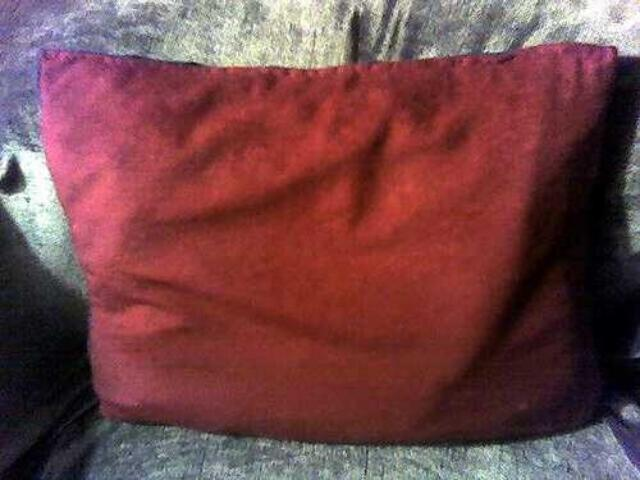pillow: (36, 40, 624, 446)
